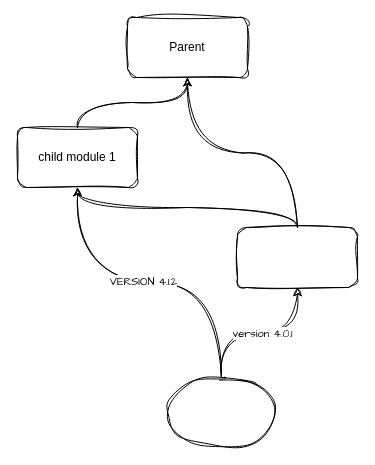
This 375x465 diagram has some shape labels left out. Here are the shapes that lost their labels. From the top down, the centre of each, then its label:
At (x=297, y=257): "child module 2".
At (x=221, y=412): "A.jar".
